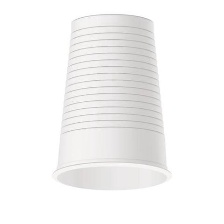glass: (48, 10, 175, 199)
